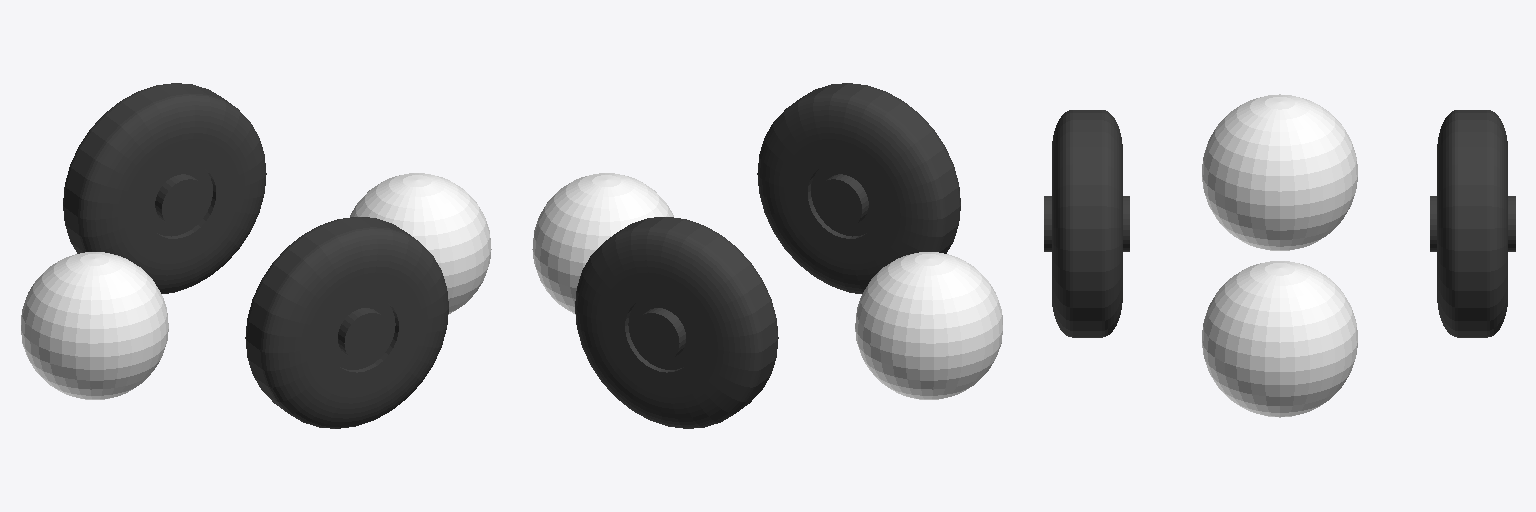
robot.urdf — diffbot:
<?xml version="1.0" ?>
<!-- =================================================================================== -->
<!-- |    This document was autogenerated by xacro from src/robot_gazebo/xacro/diffbot.xacro | -->
<!-- |    EDITING THIS FILE BY HAND IS NOT RECOMMENDED                                 | -->
<!-- =================================================================================== -->
<robot name="diffbot">
  <!-- ****************************************************** diffbot Robot ************************************************************  -->
  <!-- [author]                                                                                                                  -->
  <!-- March 2022                                                                                                                         -->
  <!-- *********************************************************************************************************************************  -->
  <!-- ****************************************************** Parameters ***************************************************************  -->
  <!-- Space btw top of beam and the each joint     -->
  <!-- ****************************************************** Includes *****************************************************************  -->
  <material name="red">
    <color rgba="1.0 0.0 0.0 1.0"/>
  </material>
  <material name="green">
    <color rgba="0.0 1.0 0.0 1.0"/>
  </material>
  <material name="blue">
    <color rgba="0.0 0.0 1.0 1.0"/>
  </material>
  <material name="black">
    <color rgba="0.3 0.3 0.3 1.0"/>
  </material>
  <material name="white">
    <color rgba="1.0 1.0 1.0 1.0"/>
  </material>
  <material name="grey">
    <color rgba="0.2 0.2 0.2 1.0"/>
  </material>
  <material name="orange">
    <color rgba="1.0 0.4235294117647059 0.0392156862745098 1.0"/>
  </material>
  <material name="brown">
    <color rgba="0.8705882352941177 0.8117647058823529 0.7647058823529411 1.0"/>
  </material>
  <material name="yellow">
    <color rgba="1.0 1.0 0.0 1.0"/>
  </material>
  <!-- ****************************************************** diffbot Robot ************************************************************  -->
  <!-- [author]                                                                                                                  -->
  <!-- March 2022                                                                                                                         -->
  <!-- *********************************************************************************************************************************  -->
  <!-- ****************************************************** Base Link ****************************************************************  -->
  <gazebo reference="base_link">
    <material>Gazebo/Blue</material>
  </gazebo>
  <!-- ****************************************************** Front caster Link ********************************************************  -->
  <gazebo reference="front_caster">
    <material>Gazebo/White</material>
  </gazebo>
  <!-- ****************************************************** Rear Caster Link *********************************************************  -->
  <gazebo reference="rear_caster">
    <material>Gazebo/White</material>
  </gazebo>
  <!-- ****************************************************** END **********************************************************************  -->
  <!-- Gazebo                                     -->
  <!-- ****************************************************** Base Footprint ***********************************************************  -->
  <link name="base_footprint"/>
  <!-- ****************************************************** Base Joint ***************************************************************  -->
  <joint name="base_joint" type="fixed">
    <parent link="base_footprint"/>
    <child link="base_link"/>
    <origin rpy="0.0 0.0 0.0" xyz="0.0 0.0 0.10500000000000001"/>
  </joint>
  <!-- ****************************************************** Base Link ****************************************************************  -->
  <link name="base_link">
    <collision>
      <origin rpy="0 0 0" xyz="0 0 0"/>
      <geometry>
        <mesh filename="package://robot_gazebo/meshes/diffbot/base.stl" scale="1 1 1"/>
        <!--  <box size="${base_length} ${base_width} ${base_height}"/> -->
      </geometry>
    </collision>
    <visual>
      <origin rpy="0 0 0" xyz="0 0 0"/>
      <geometry>
        <mesh filename="package://robot_gazebo/meshes/diffbot/base.stl" scale="1 1 1"/>
        <!--  <box size="${base_length} ${base_width} ${base_height}"/> -->
      </geometry>
      <material name="blue"/>
    </visual>
    <inertial>
      <origin rpy="0 0 0" xyz="0 0 0"/>
      <mass value="0.6"/>
      <inertia ixx="0.0085" ixy="0.0" ixz="0.0" iyy="0.0025000000000000005" iyz="0.0" izz="0.010000000000000002"/>
    </inertial>
  </link>
  <!-- ****************************************************** Right Wheel Joint ********************************************************  -->
  <joint name="right_wheel_joint" type="continuous">
    <parent link="base_link"/>
    <child link="right_wheel"/>
    <origin rpy="0 0 0" xyz="0 0.135 -0.025"/>
    <limit effort="30" lower="-3.141592653589793" upper="3.141592653589793" velocity="5.0"/>
    <axis xyz="0 1 0"/>
    <dynamics damping="0.2"/>
  </joint>
  <!-- ****************************************************** Right Wheel Link ********************************************************  -->
  <link name="right_wheel">
    <collision>
      <origin rpy="1.5707963267948966 0 0" xyz="0 0 0"/>
      <geometry>
        <mesh filename="package://robot_gazebo/meshes/diffbot/wheel.dae" scale="1 1 1"/>
        <!-- <cylinder length="${wheel_width}" radius="${wheel_radius}"/> -->
      </geometry>
    </collision>
    <visual>
      <origin rpy="1.5707963267948966 0 0" xyz="0 0 0"/>
      <geometry>
        <mesh filename="package://robot_gazebo/meshes/diffbot/wheel.dae" scale="1 1 1"/>
        <!-- <cylinder length="${wheel_width}" radius="${wheel_radius}"/> -->
      </geometry>
      <material name="black"/>
    </visual>
    <inertial>
      <origin rpy="1.5707963267948966 0 0" xyz="0 0 0"/>
      <mass value="5.0"/>
      <inertia ixx="0.10104166666666667" ixy="0.0" ixz="0.0" iyy="0.0026666666666666666" iyz="0.0" izz="0.0026666666666666666"/>
    </inertial>
  </link>
  <!-- ****************************************************** Left Wheel Joint *********************************************************  -->
  <joint name="left_wheel_joint" type="continuous">
    <parent link="base_link"/>
    <child link="left_wheel"/>
    <origin rpy="0 0 0" xyz="0 -0.135 -0.025"/>
    <limit effort="30" lower="-3.141592653589793" upper="3.141592653589793" velocity="5.0"/>
    <axis xyz="0 1 0"/>
    <dynamics damping="0.2"/>
  </joint>
  <!-- ****************************************************** Left Wheel Link **********************************************************  -->
  <link name="left_wheel">
    <collision>
      <origin rpy="1.5707963267948966 0 0" xyz="0 0 0"/>
      <geometry>
        <mesh filename="package://robot_gazebo/meshes/diffbot/wheel.dae" scale="1 1 1"/>
        <!-- <cylinder length="${wheel_width}" radius="${wheel_radius}"/> -->
      </geometry>
    </collision>
    <visual>
      <origin rpy="1.5707963267948966 0 0" xyz="0 0 0"/>
      <geometry>
        <mesh filename="package://robot_gazebo/meshes/diffbot/wheel.dae" scale="1 1 1"/>
        <!-- <cylinder length="${wheel_width}" radius="${wheel_radius}"/> -->
      </geometry>
      <material name="black"/>
    </visual>
    <inertial>
      <origin rpy="1.5707963267948966 0 0" xyz="0 0 0"/>
      <mass value="5.0"/>
      <inertia ixx="0.10104166666666667" ixy="0.0" ixz="0.0" iyy="0.0026666666666666666" iyz="0.0" izz="0.0026666666666666666"/>
    </inertial>
  </link>
  <!-- ****************************************************** Front caster joint *******************************************************  -->
  <joint name="front_caster_joint" type="fixed">
    <parent link="base_link"/>
    <child link="front_caster"/>
    <origin rpy="0 0 0" xyz="0.13775 0 -0.05"/>
  </joint>
  <!-- ****************************************************** Front caster Link ********************************************************  -->
  <link name="front_caster">
    <collision>
      <origin rpy="0 0 0" xyz="0 0 0"/>
      <geometry>
        <sphere radius="0.055"/>
      </geometry>
    </collision>
    <visual>
      <origin rpy="0 0 0" xyz="0 0 0"/>
      <geometry>
        <sphere radius="0.055"/>
      </geometry>
      <material name="white"/>
    </visual>
    <inertial>
      <origin rpy="0 0 0" xyz="0 0 0"/>
      <mass value="0.1"/>
      <inertia ixx="0.00012100000000000001" ixy="0.0" ixz="0.0" iyy="0.00012100000000000001" iyz="0.0" izz="0.00012100000000000001"/>
    </inertial>
  </link>
  <!-- ****************************************************** Rear Caster Joint ********************************************************  -->
  <joint name="rear_caster_joint" type="fixed">
    <parent link="base_link"/>
    <child link="rear_caster"/>
    <origin rpy="0 0 0" xyz="-0.13775 0 -0.05"/>
  </joint>
  <!-- ****************************************************** Rear Caster Link *********************************************************  -->
  <link name="rear_caster">
    <collision>
      <origin rpy="0 0 0" xyz="0 0 0"/>
      <geometry>
        <sphere radius="0.055"/>
      </geometry>
    </collision>
    <visual>
      <origin rpy="0 0 0" xyz="0 0 0"/>
      <geometry>
        <sphere radius="0.055"/>
      </geometry>
      <material name="white"/>
    </visual>
    <inertial>
      <origin rpy="0 0 0" xyz="0 0 0"/>
      <mass value="0.1"/>
      <inertia ixx="0.00012100000000000001" ixy="0.0" ixz="0.0" iyy="0.00012100000000000001" iyz="0.0" izz="0.00012100000000000001"/>
    </inertial>
  </link>
  <!-- ****************************************************** Hokuyo Link **************************************************************  -->
  <link name="hokuyo">
    <inertial>
      <mass value="1e-05"/>
      <origin rpy=" 0 0 0" xyz="0 0 0"/>
      <inertia ixx="1e-6" ixy="0" ixz="0" iyy="1e-6" iyz="0" izz="1e-6"/>
    </inertial>
    <visual name="hokuyo_visual">
      <origin rpy="0 0 0" xyz="0 0 0"/>
      <geometry>
        <mesh filename="package://robot_gazebo/meshes/diffbot/hokuyo.dae"/>
        <!--  <box size="${hokuyo_length} ${hokuyo_width} ${hokuyo_height}"/> -->
      </geometry>
      <!-- <material name="red"/> -->
    </visual>
    <collision name="hokuyo_colision">
      <origin rpy="0 0 0" xyz="0 0 0"/>
      <geometry>
        <mesh filename="package://robot_gazebo/meshes/diffbot/hokuyo.dae"/>
        <!--  <box size="${hokuyo_length} ${hokuyo_width} ${hokuyo_height}"/> -->
      </geometry>
    </collision>
  </link>
  <!-- ****************************************************** Hokuyo Joint *************************************************************  -->
  <joint name="hokuyo_joint" type="fixed">
    <origin rpy="0 0 0" xyz="0.11 0 0.0853"/>
    <child link="hokuyo"/>
    <parent link="base_link"/>
    <axis rpy="0 0 0" xyz="0 1 0"/>
  </joint>
  <!-- ****************************************************** END **********************************************************************  -->
</robot>

--- Facts derived from the render (not from the file) ---
Views: 3 orthographic renders of the robot side by side, from view 1: azimuth 30°, elevation 25°; view 2: azimuth 150°, elevation 25°; view 3: azimuth 270°, elevation 25°.
Robot: diffbot — 7 links, 6 joints (2 continuous, 4 fixed); root link base_footprint; default pose: every joint at zero.
Links seen in each view (by area): view 1: left_wheel, right_wheel, rear_caster, front_caster; view 2: right_wheel, left_wheel, rear_caster, front_caster; view 3: front_caster, rear_caster, right_wheel, left_wheel.
Boxes of the visible links, <box> form: left_wheel: <box>245,217,448,428</box>; right_wheel: <box>63,83,266,293</box>; rear_caster: <box>21,252,168,399</box>; front_caster: <box>350,173,491,314</box>; right_wheel: <box>575,217,778,428</box>; left_wheel: <box>757,83,960,293</box>; rear_caster: <box>855,252,1002,399</box>; front_caster: <box>532,173,673,314</box>; front_caster: <box>1202,261,1357,417</box>; rear_caster: <box>1202,94,1357,250</box>; right_wheel: <box>1430,110,1515,337</box>; left_wheel: <box>1044,110,1129,337</box>.
Size in the robot's own frame: 0.3855 by 0.33 by 0.16 metres.
2 mesh visuals loaded from 3 distinct referenced files (1 Collada DAE); not drawn: 2 (reference not matched to a file when rendering).